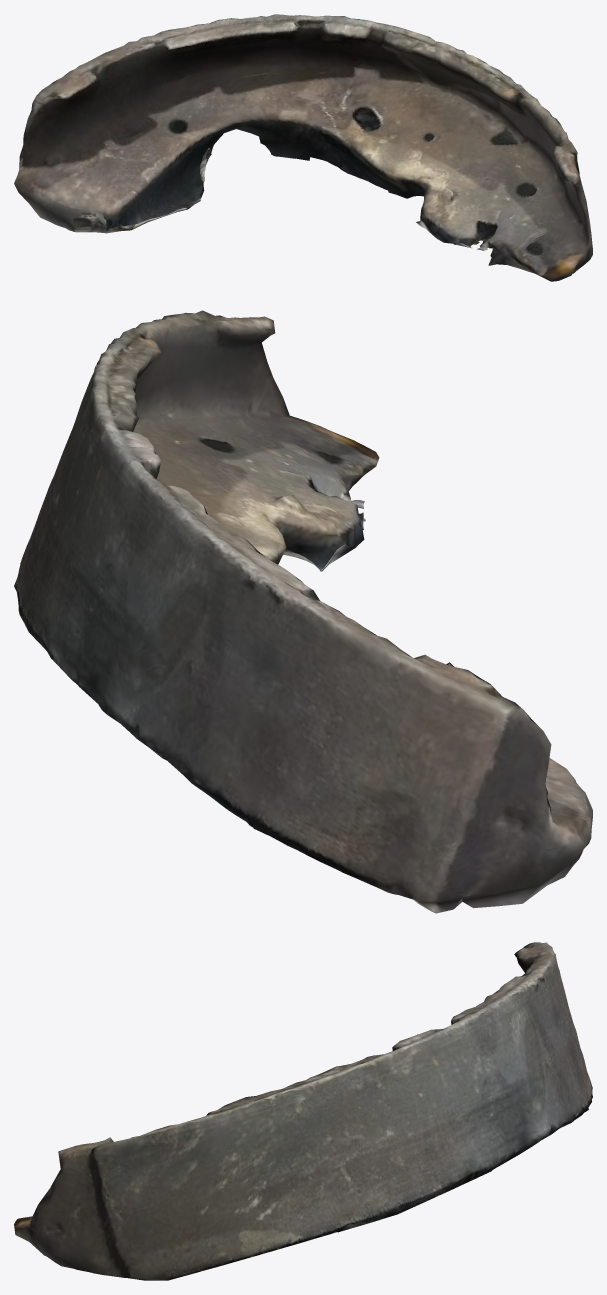
The model's file is banda-bake.glb.
3 renders of one model, top to bottom at view 1: azimuth 30°, elevation 25°; view 2: azimuth 150°, elevation 25°; view 3: azimuth 270°, elevation 25°, orthographic. The views are drawn at different scales.
Visible parts, largest first — view 1: Mesh_0; view 2: Mesh_0; view 3: Mesh_0.
Boxes of the visible parts, x1=… form: Mesh_0: x1=14, y1=14, x2=592, y2=281; Mesh_0: x1=14, y1=310, x2=592, y2=913; Mesh_0: x1=14, y1=942, x2=592, y2=1280.
Bounding box in the file's own units: 0.3617 × 0.1355 × 0.371.
Materials: 1 (1 with a texture image).
